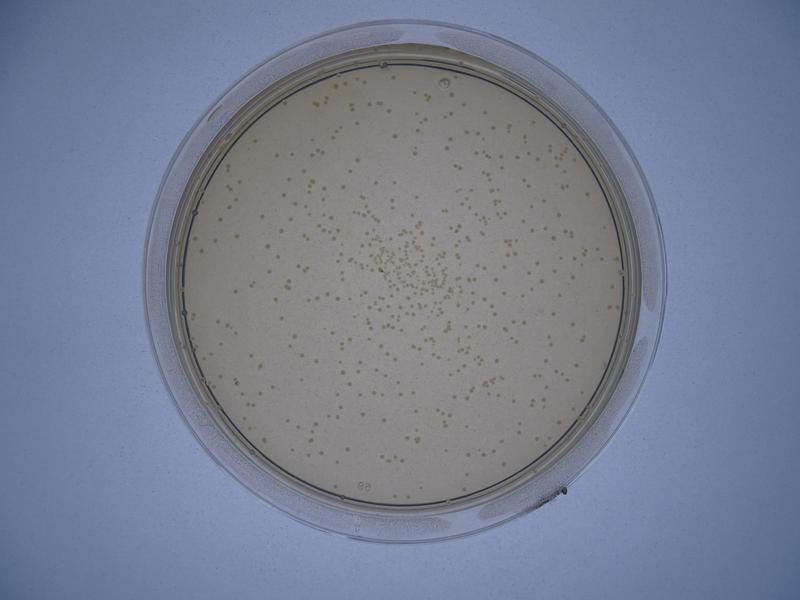colony: (343, 443, 353, 459), (461, 469, 475, 479), (390, 131, 401, 143), (369, 176, 381, 187), (262, 240, 272, 253), (256, 211, 267, 222), (269, 295, 280, 306), (412, 192, 422, 202), (325, 327, 337, 335), (411, 406, 420, 416), (353, 155, 362, 164), (249, 136, 258, 145), (246, 351, 256, 359), (519, 292, 525, 300)
